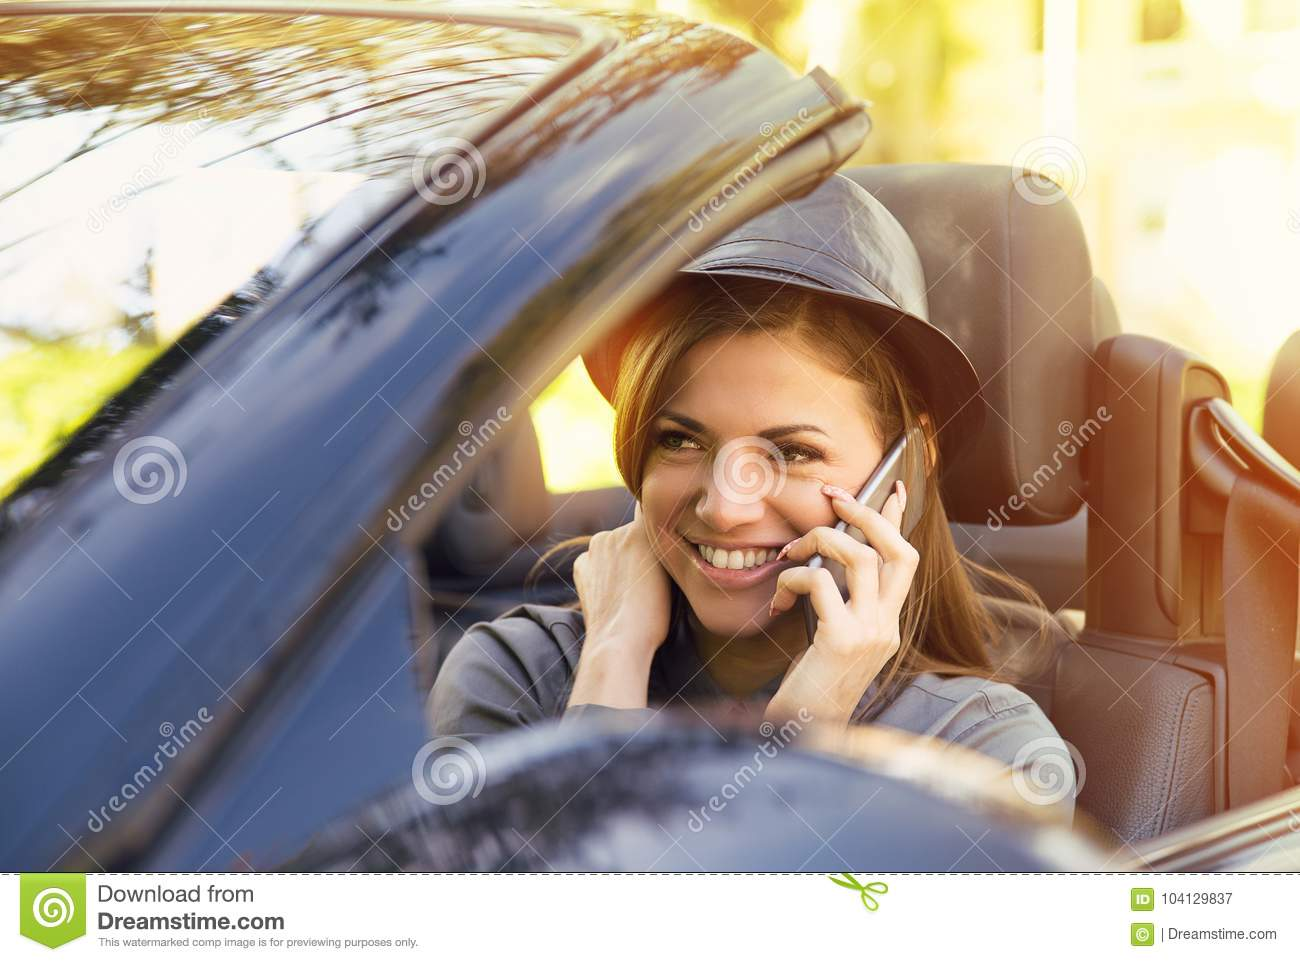phone: (797, 430, 927, 644)
talk: (638, 409, 930, 729)
